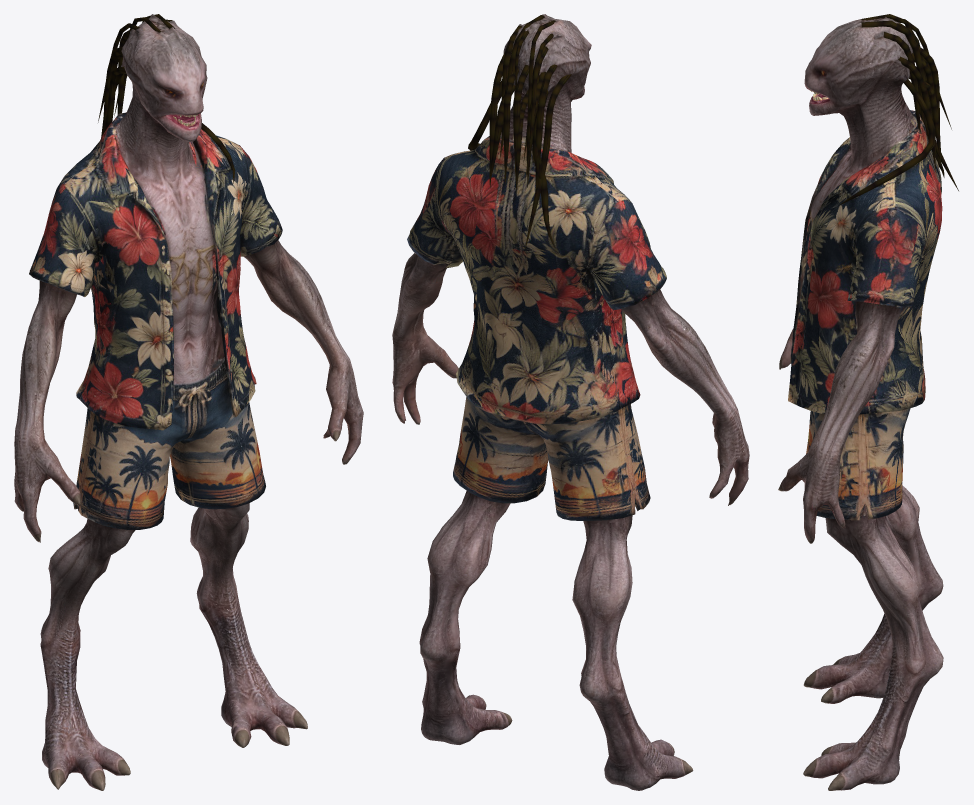
Rendered from vanduude-lowpoly-ver1.prepared.glb.
The picture shows the model from 3 angles, left to right: view 1: azimuth 30°, elevation 25°; view 2: azimuth 150°, elevation 25°; view 3: azimuth 270°, elevation 25°; orthographic projection. The views are drawn at different scales.
Visible parts, largest first — view 1: vanduude.lowpoly, hair; view 2: vanduude.lowpoly, hair; view 3: vanduude.lowpoly, hair.
Boxes of the visible parts, bbox=[...] form: vanduude.lowpoly: bbox=[14, 14, 363, 790]; hair: bbox=[98, 14, 235, 183]; vanduude.lowpoly: bbox=[392, 14, 749, 790]; hair: bbox=[468, 15, 571, 249]; vanduude.lowpoly: bbox=[778, 17, 943, 790]; hair: bbox=[838, 14, 958, 205].
Bounding box in the file's own units: 1.1 × 2.25 × 0.5169.
1 material, 1 textured.
